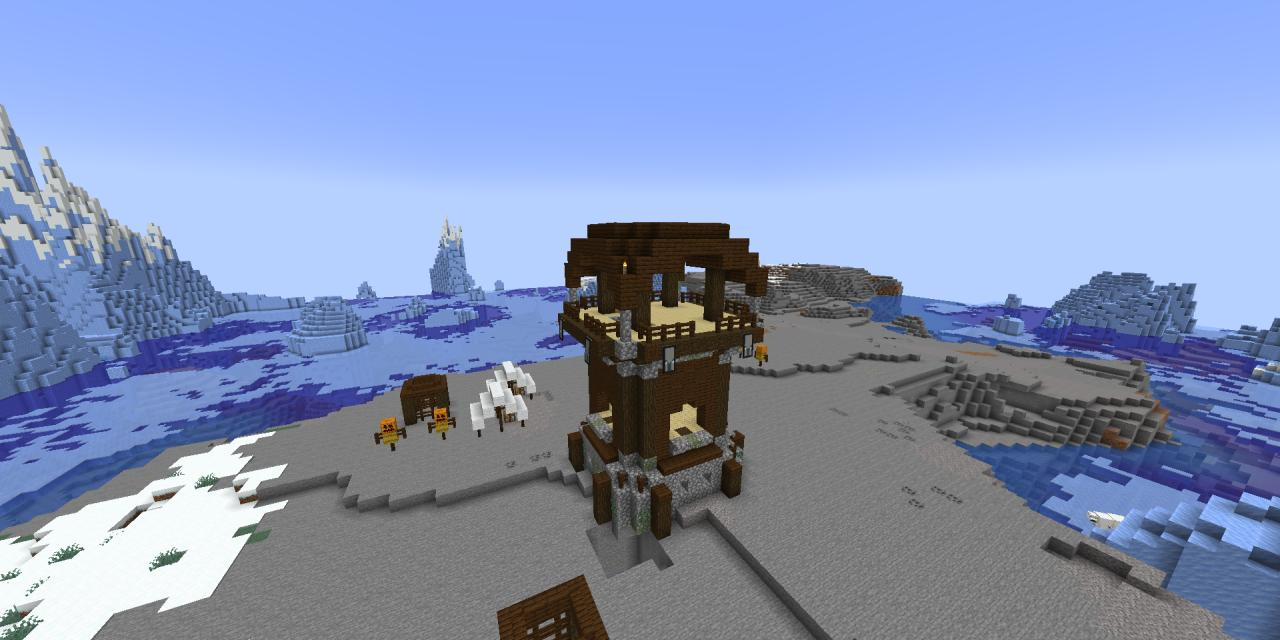pillager outpost: (554, 208, 776, 548)
